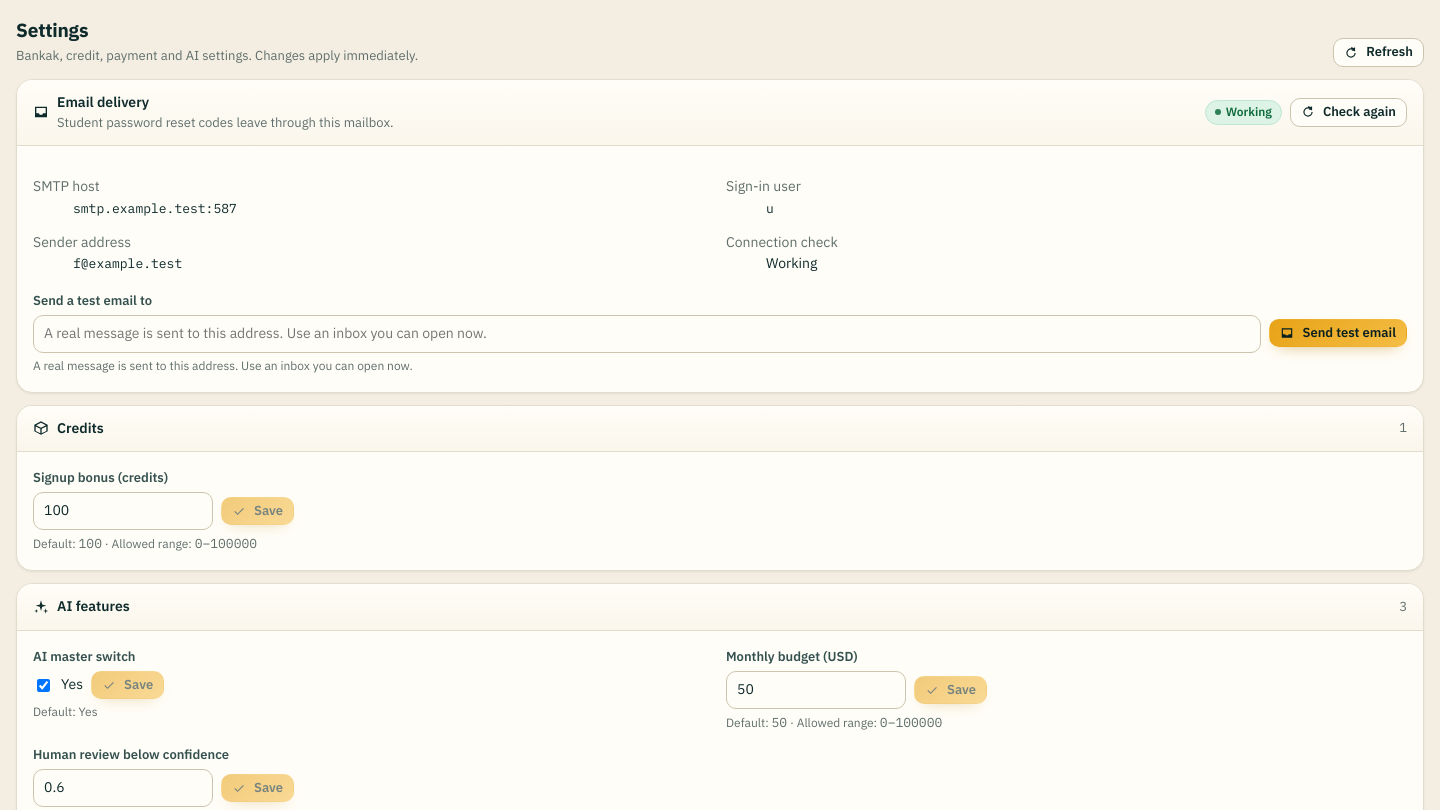
Scenario: SettingsPage AI rows › saves a fractional budget as a number, not a string
Replace the text in the number field labelled "Monthly budget (USD)" with "12.5" at (816, 690), box x1=726 y1=671 x2=906 y2=709
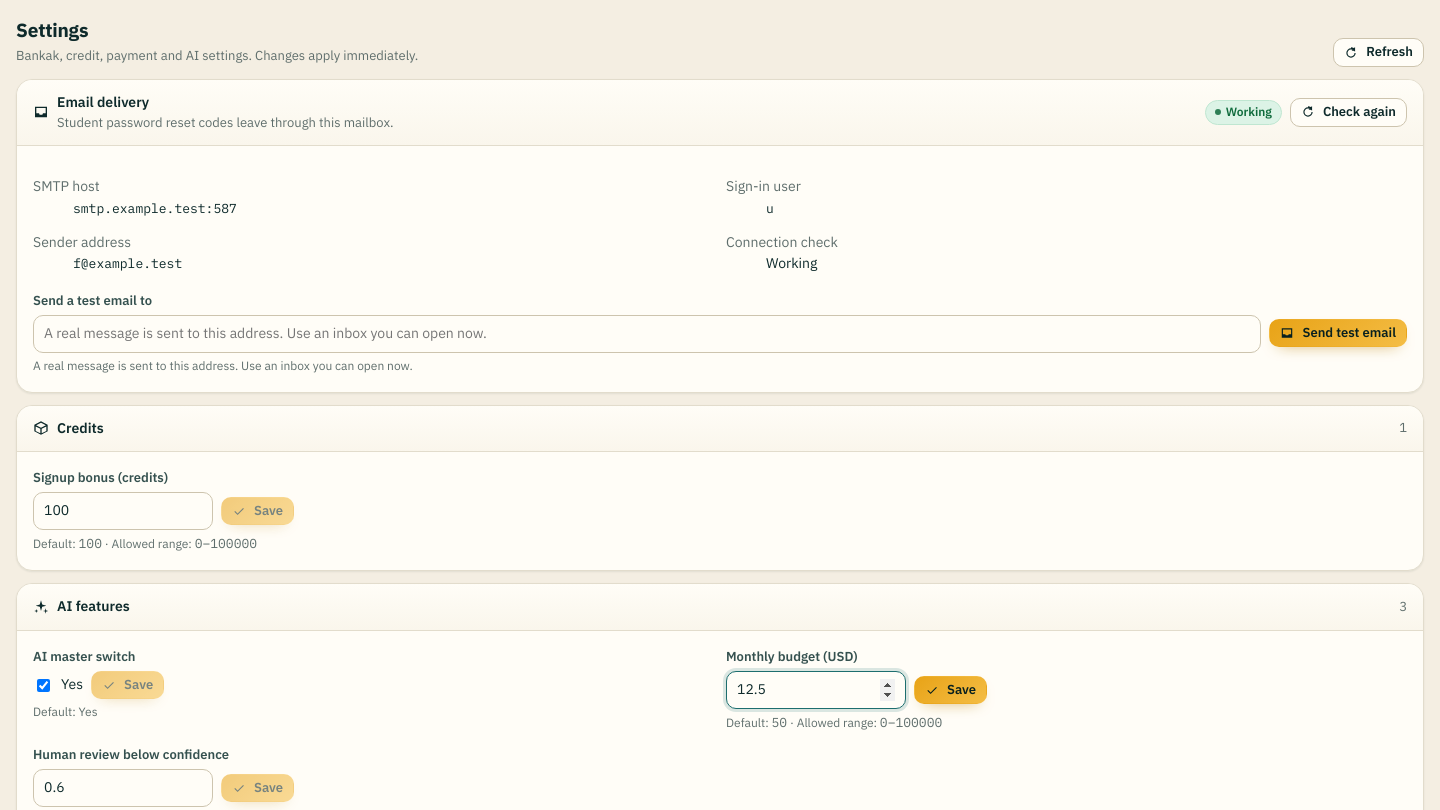
Click the button "Save" below "Monthly budget (USD)" at (951, 690), box x1=914 y1=676 x2=987 y2=704
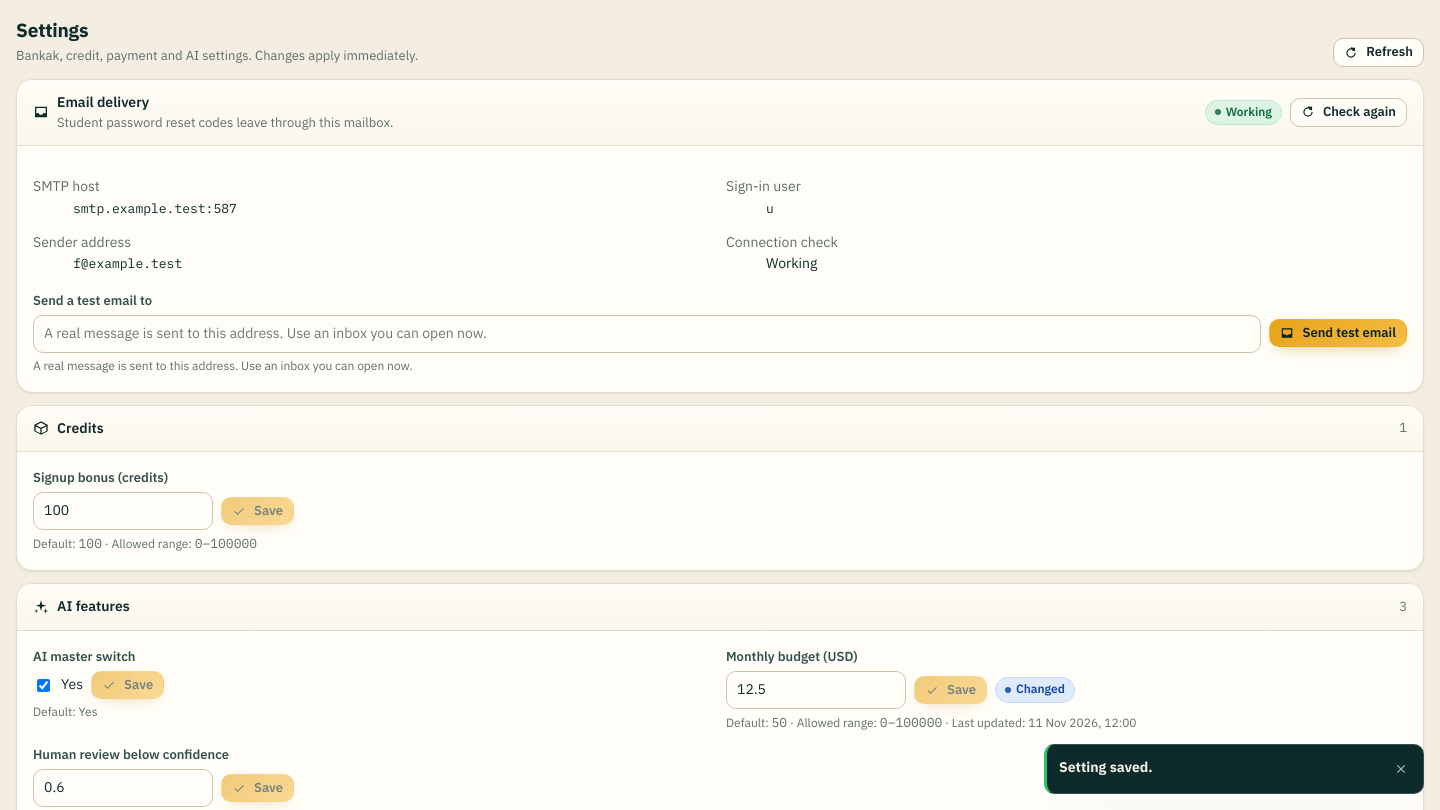
Expected: the text "Setting saved." is shown, x1=1059 y1=757 x2=1153 y2=778
